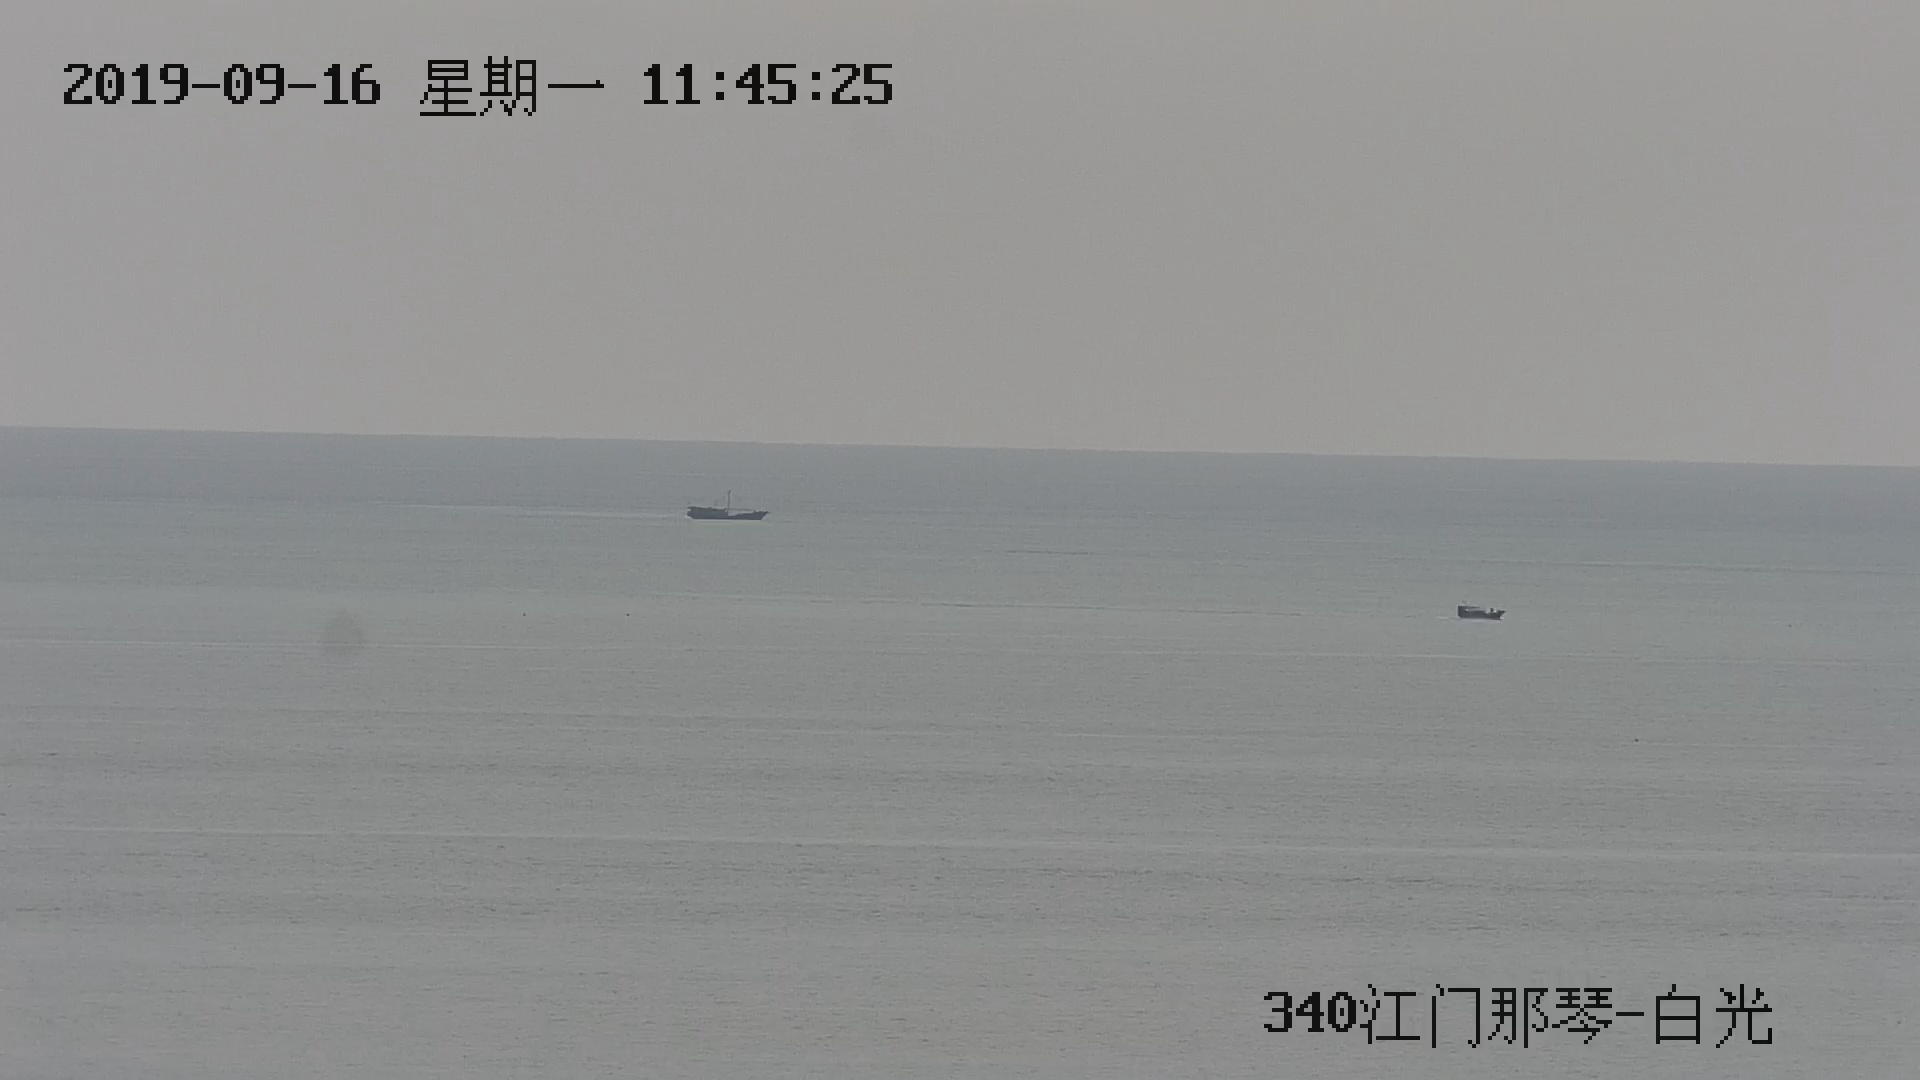ship: (688, 491, 769, 522), (1458, 597, 1509, 622)
